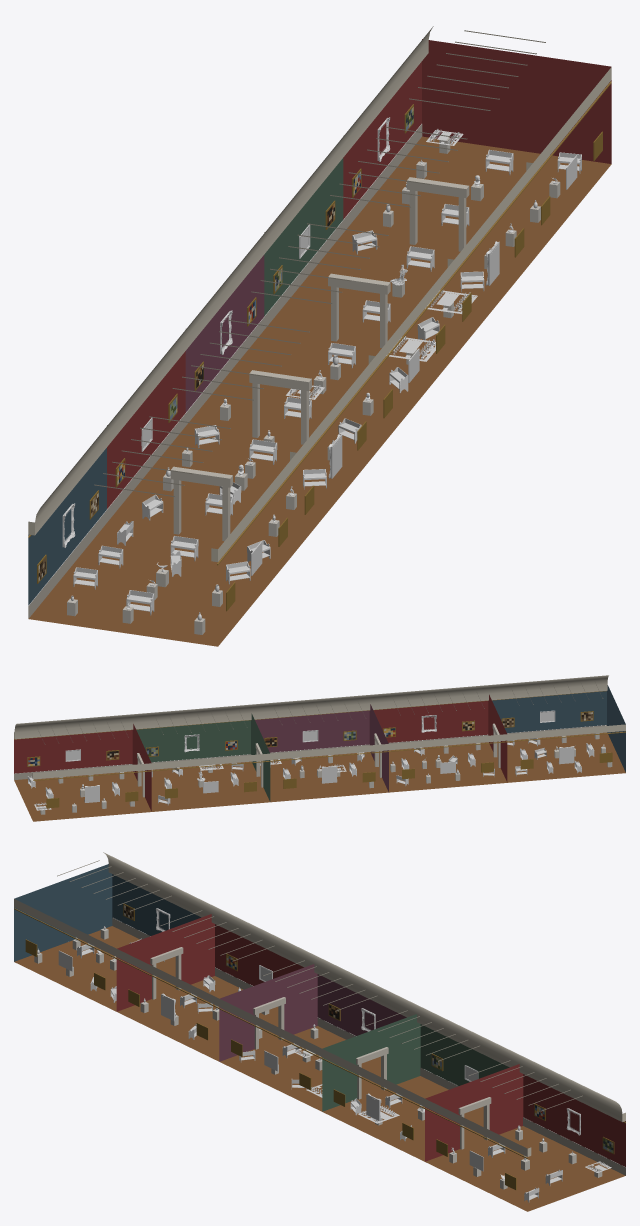
Rendered from legion_int.glb.
The picture shows the model from 3 angles, top to bottom: view 1: azimuth 30°, elevation 25°; view 2: azimuth 150°, elevation 25°; view 3: azimuth 270°, elevation 25°; orthographic projection. The views are drawn at different scales.
Parts seen in each view (by area): view 1: I_x_parquet, I_x_jacquard, I_x_plaster, I_p_painted_wooden_bench__0, I_x_marble_cream, I_x_marble_grey, I_x_gold, I_metal, I_d_x_plaster, I_p_fancy_picture_frame_02__0, I_d_paint, I_p_chess_set__0 (+2 smaller); view 2: I_x_jacquard, I_x_parquet, I_x_plaster, I_x_gold, I_p_painted_wooden_bench__0, I_p_fancy_picture_frame_02__0, I_d_paint, I_x_marble_grey, I_d_x_plaster, I_x_marble_cream, I_p_fancy_picture_frame_01__0, I_p_fancy_picture_frame_01__1 (+3 smaller); view 3: I_x_jacquard, I_x_parquet, I_x_plaster, I_x_gold, I_x_marble_cream, I_p_painted_wooden_bench__0, I_x_marble_grey, I_metal, I_d_x_plaster, I_p_fancy_picture_frame_02__0, I_p_fancy_picture_frame_01__0, I_d_paint.
Boxes of the visible parts, left/top/right/bottom form: I_x_parquet: left=29, top=136, right=611, bottom=646; I_x_jacquard: left=28, top=39, right=611, bottom=605; I_x_plaster: left=28, top=26, right=611, bottom=562; I_p_painted_wooden_bench__0: left=73, top=149, right=581, bottom=615; I_x_marble_cream: left=170, top=177, right=469, bottom=541; I_x_marble_grey: left=28, top=124, right=422, bottom=618; I_x_gold: left=28, top=81, right=611, bottom=611; I_metal: left=94, top=30, right=545, bottom=496; I_d_x_plaster: left=67, top=137, right=560, bottom=634; I_p_fancy_picture_frame_02__0: left=62, top=117, right=499, bottom=547; I_d_paint: left=38, top=107, right=413, bottom=581; I_p_chess_set__0: left=286, top=130, right=477, bottom=399; I_x_jacquard: left=14, top=685, right=625, bottom=811; I_x_parquet: left=14, top=732, right=625, bottom=821; I_x_plaster: left=14, top=675, right=625, bottom=779; I_x_gold: left=14, top=691, right=625, bottom=808; I_p_painted_wooden_bench__0: left=27, top=738, right=594, bottom=805; I_p_fancy_picture_frame_02__0: left=84, top=715, right=574, bottom=802; I_d_paint: left=28, top=712, right=592, bottom=765; I_x_marble_grey: left=14, top=725, right=606, bottom=779; I_d_x_plaster: left=40, top=733, right=612, bottom=814; I_x_marble_cream: left=137, top=723, right=500, bottom=797; I_p_fancy_picture_frame_01__0: left=65, top=710, right=555, bottom=793; I_p_fancy_picture_frame_01__1: left=66, top=711, right=554, bottom=760; I_x_jacquard: left=14, top=864, right=625, bottom=1166; I_x_parquet: left=14, top=926, right=625, bottom=1211; I_x_plaster: left=14, top=852, right=625, bottom=1156; I_x_gold: left=14, top=903, right=625, bottom=1190; I_x_marble_cream: left=150, top=947, right=491, bottom=1149; I_p_painted_wooden_bench__0: left=77, top=938, right=562, bottom=1202; I_x_marble_grey: left=112, top=917, right=625, bottom=1175; I_metal: left=57, top=860, right=582, bottom=1111; I_d_x_plaster: left=34, top=928, right=602, bottom=1189; I_p_fancy_picture_frame_02__0: left=156, top=908, right=580, bottom=1135; I_p_fancy_picture_frame_01__0: left=58, top=950, right=483, bottom=1171; I_d_paint: left=124, top=905, right=613, bottom=1152.
Size of the model in its own units: 72.75 by 9.9 by 65.78.
